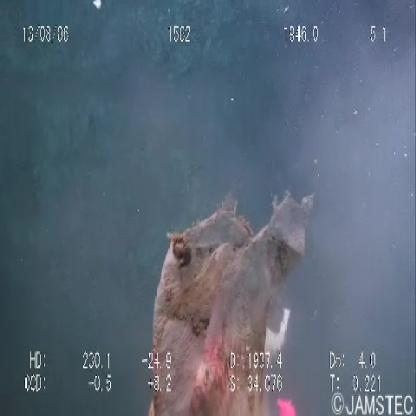Rác: (137, 163, 322, 416)
